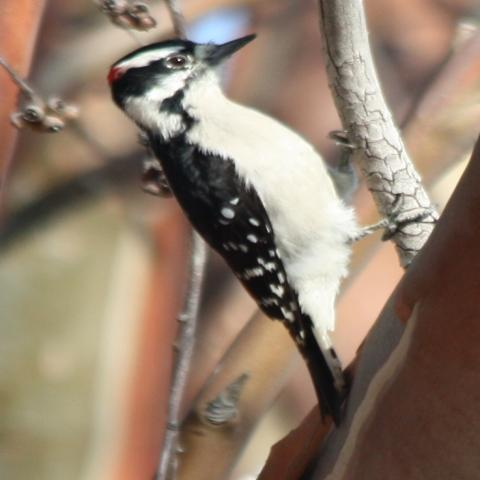bird: (104, 32, 441, 436)
